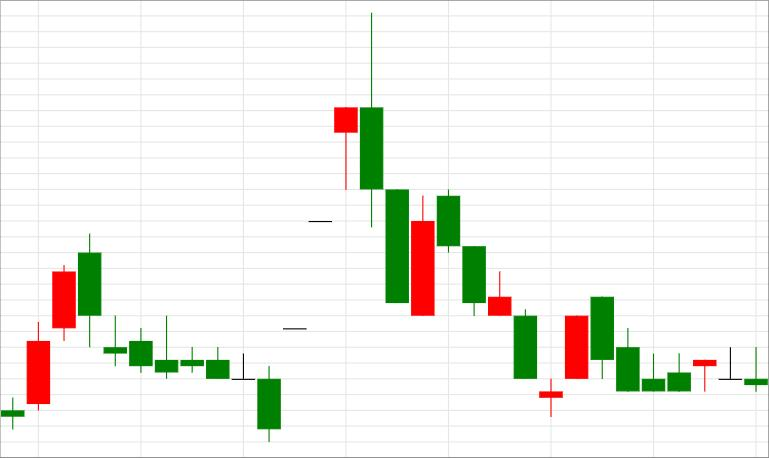bearish_engulfing_fall: (256, 13, 383, 441)
hanging_man_fall: (255, 106, 358, 443)
morning_star_rise: (438, 191, 588, 417)
